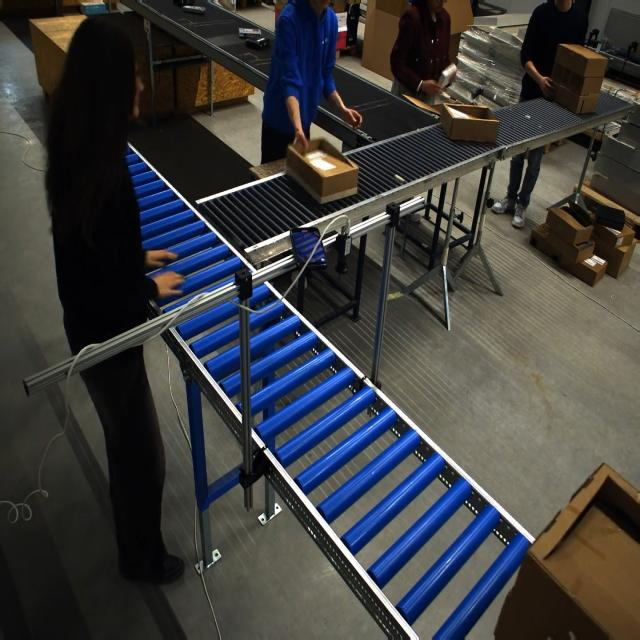box: (493, 463, 638, 638), (285, 138, 352, 204), (439, 102, 499, 144)
product: (429, 62, 459, 104), (245, 37, 269, 50), (182, 5, 206, 14)
